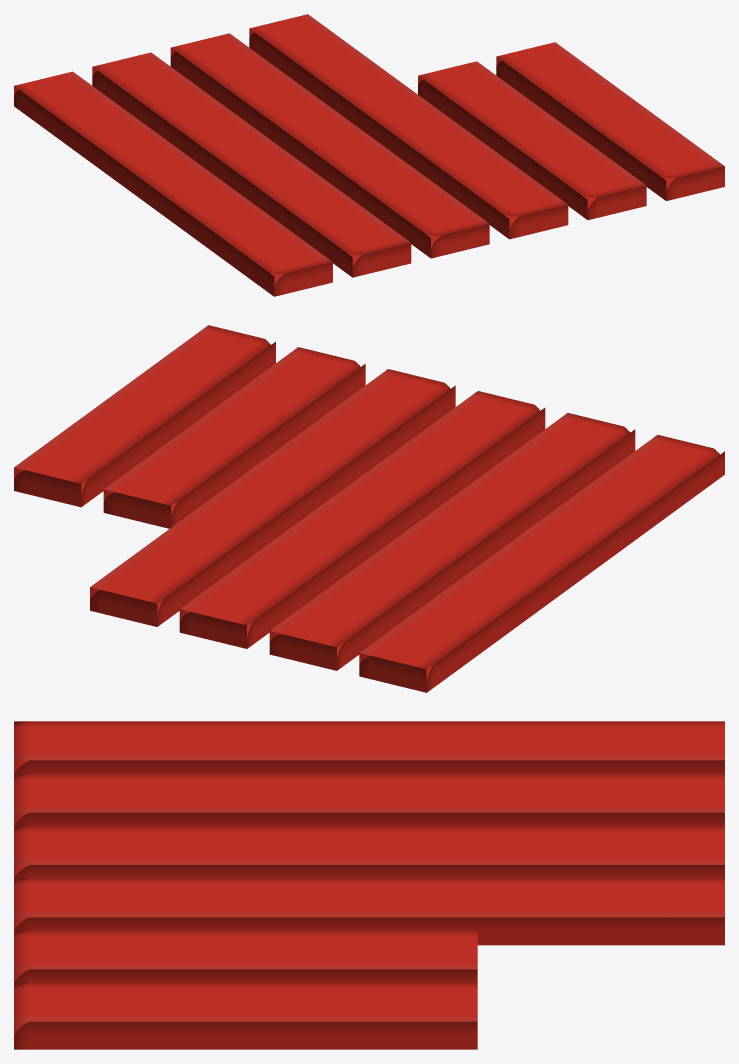
The model's file is bridge_l_2.obj.
3 views of the same model, one above another, from view 1: azimuth 30°, elevation 25°; view 2: azimuth 150°, elevation 25°; view 3: azimuth 270°, elevation 25° (orthographic). The views are drawn at different scales.
Parts seen in each view (by area): view 1: cube; view 2: cube; view 3: cube.
Part boxes in pixels (x1,y1,x2,y2): cube: [14, 14, 724, 296]; cube: [14, 325, 724, 692]; cube: [14, 721, 724, 1049].
Bounding box in the file's own units: 0.7188 × 0.0312 × 0.7188.
Materials: 1 (1 with a texture image).
